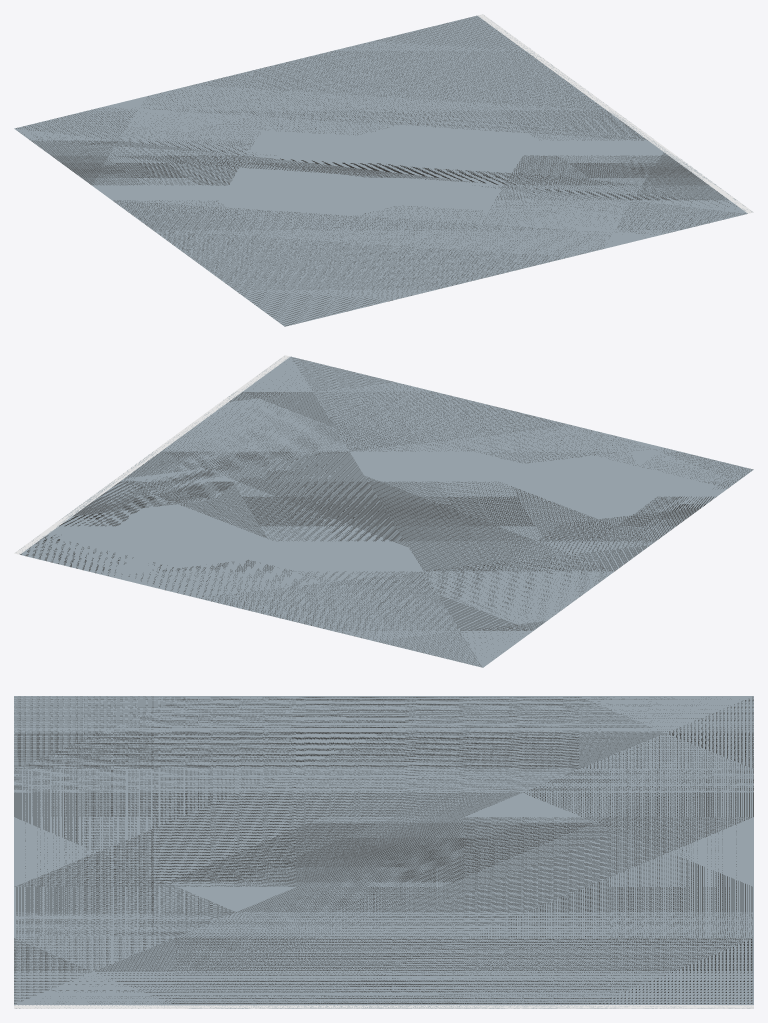
The model's file is single_lane_divider.fbx.
3 views of the same model, one above another, from view 1: azimuth 30°, elevation 25°; view 2: azimuth 150°, elevation 25°; view 3: azimuth 270°, elevation 25° (orthographic). The views are drawn at different scales.
Parts seen in each view (by area): view 1: Model; view 2: Model; view 3: Model.
Boxes of the visible parts, x1,y1,x2,y2 form: Model: (14,14,753,326); Model: (14,355,753,667); Model: (14,696,753,1008).
Size of the model in its own units: 4 by 0 by 4.
